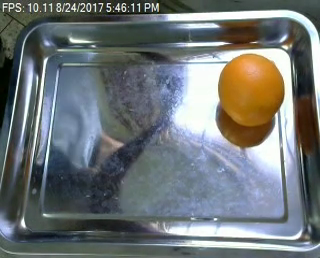Orange: (217, 52, 287, 125)
